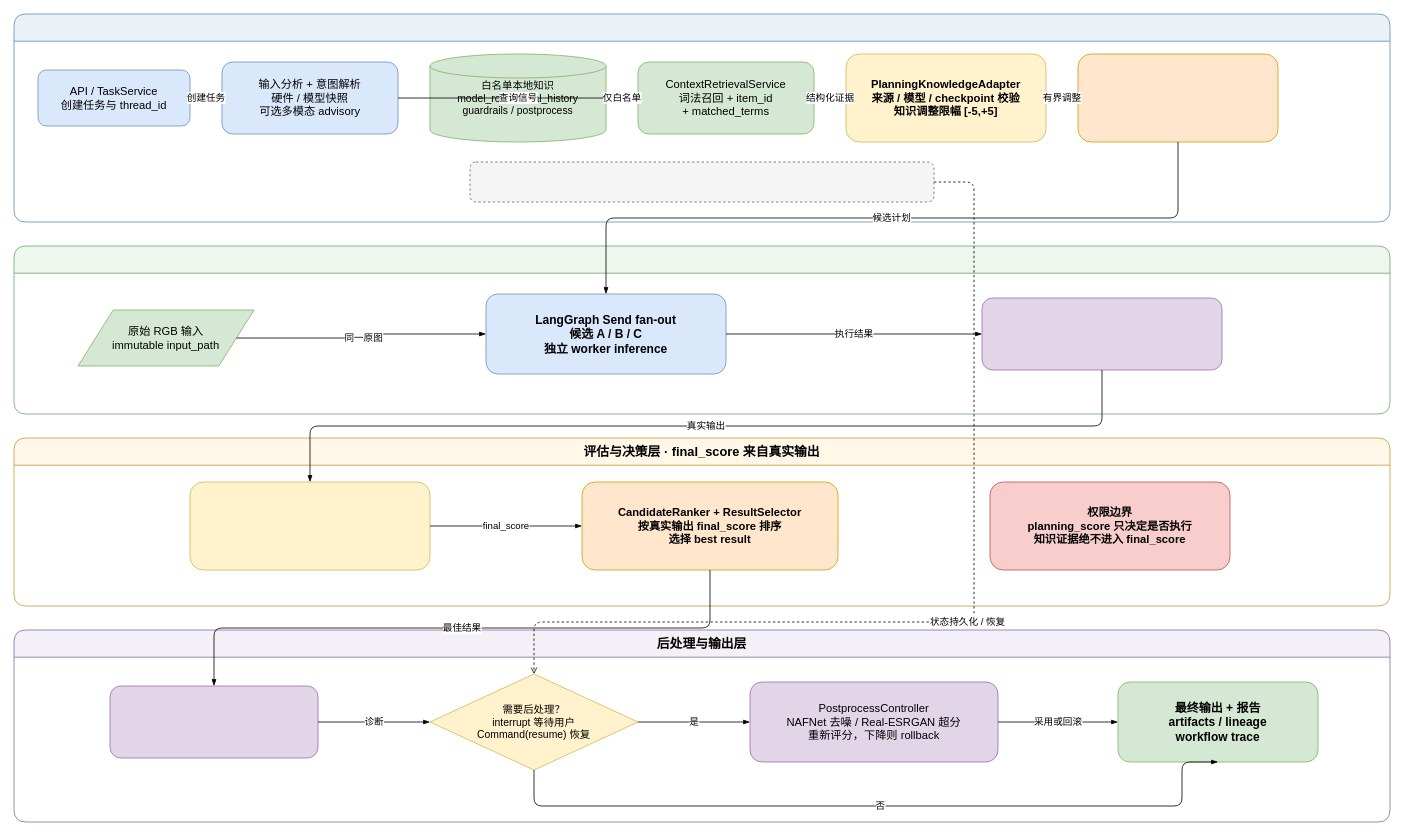
Some shapes in this 1404 by 836 pixel diagram are drawn without their labels. Here are the shapes that lost their labels. From the top down, the box of each, then its label:
(13, 13, 1390, 222): Agent 编排层 · LangGraph V2.2
(1077, 53, 1278, 142): CandidatePlanner local + knowledge + AI + hardware 生成 1-3 个互补候选
(469, 161, 934, 202): State / messages / events / SQLite checkpoint interrupt / Command(resume)
(13, 245, 1390, 414): 候选执行层 · 每个候选只读取原图
(981, 297, 1222, 370): Reducer 汇总 candidate_results / events / messages 失败隔离
(189, 481, 430, 570): CandidateEvaluator 图像技术指标 + IQA ROI 硬约束 / 一次有界重试
(109, 685, 318, 758): ResidualDegradationAnalyzer 诊断残余噪声 / 分辨率
